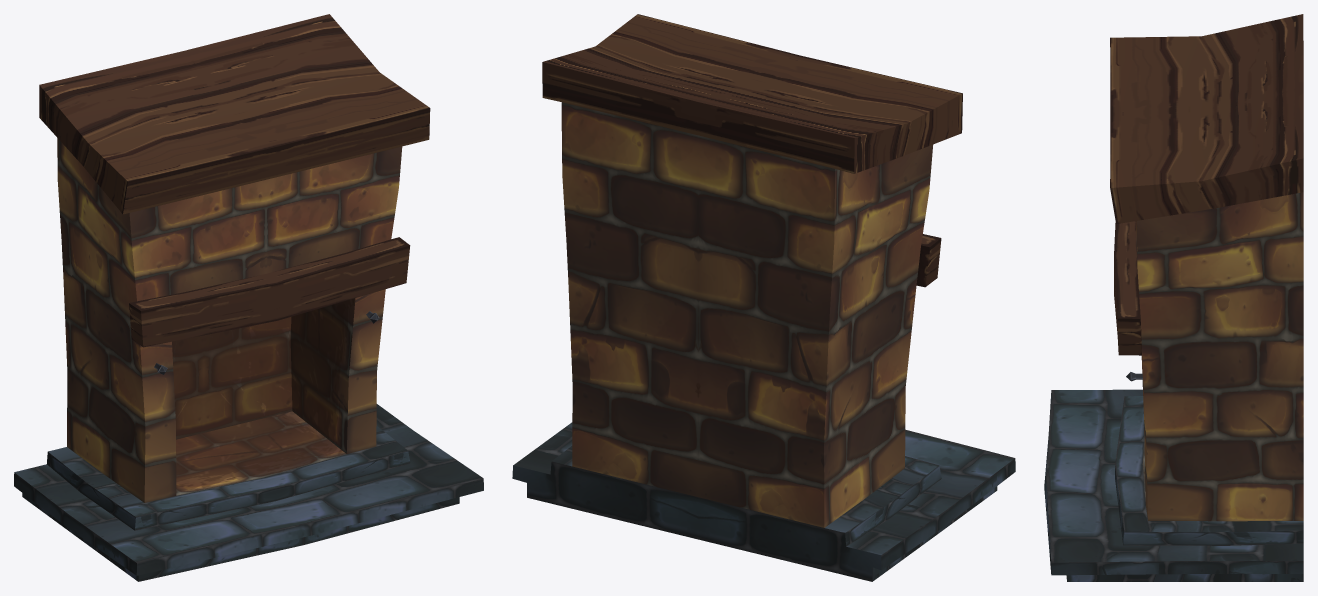
File: SM_PROP_fireplace_interior.fbx
3 renders of one model, left to right at view 1: azimuth 30°, elevation 25°; view 2: azimuth 150°, elevation 25°; view 3: azimuth 270°, elevation 25°, orthographic. The views are drawn at different scales.
Visible parts, largest first — view 1: SM_PROP_fireplace_interior; view 2: SM_PROP_fireplace_interior; view 3: SM_PROP_fireplace_interior.
Boxes of the visible parts, bbox=[...] form: SM_PROP_fireplace_interior: bbox=[14, 14, 483, 581]; SM_PROP_fireplace_interior: bbox=[512, 14, 1015, 581]; SM_PROP_fireplace_interior: bbox=[1044, 14, 1303, 581].
Size of what is drawn, in the model's own units: 230 by 258 by 146.
